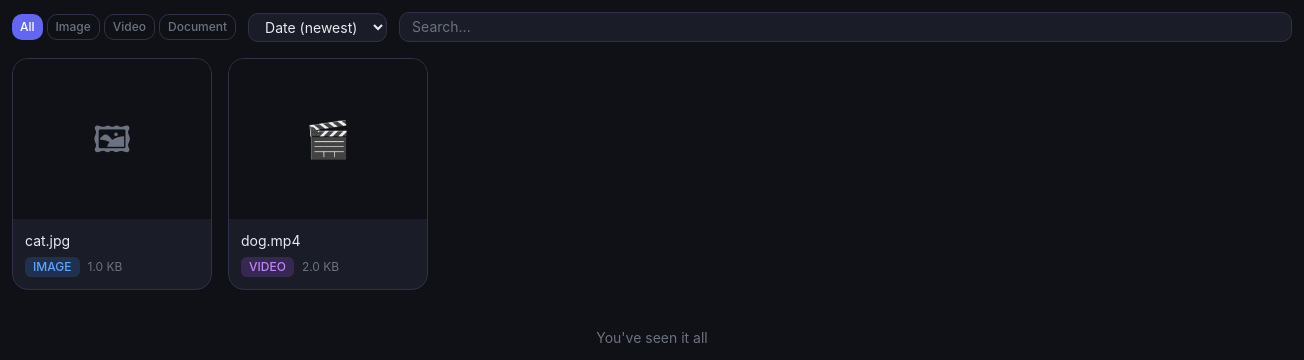
Test: MediaGallery › searches by name
Type "cat" into the field with placeholder "Search..." at [846, 27], box [399,12,1292,42]
Wait 300 ms
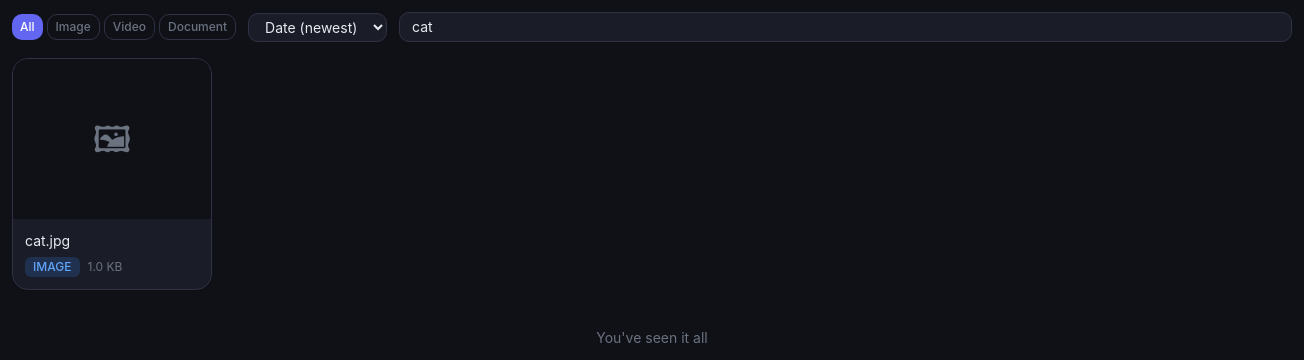
Result: the text "dog.mp4" is gone
